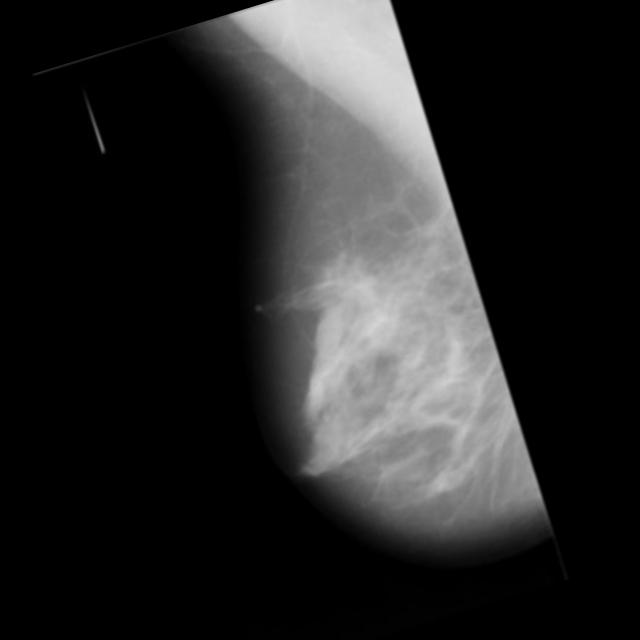ARCH: (282, 258, 357, 332)
